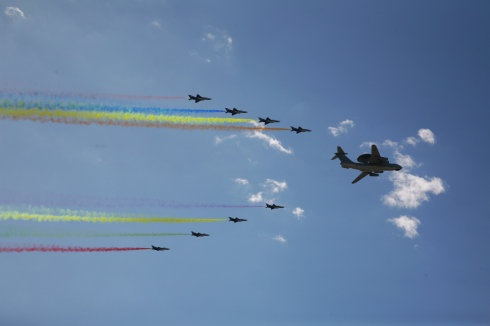airplane: (331, 140, 403, 182), (183, 89, 212, 103), (221, 104, 248, 116), (287, 124, 313, 135), (256, 114, 280, 124), (261, 201, 284, 211), (189, 230, 211, 238), (227, 215, 245, 224), (151, 244, 170, 251)
